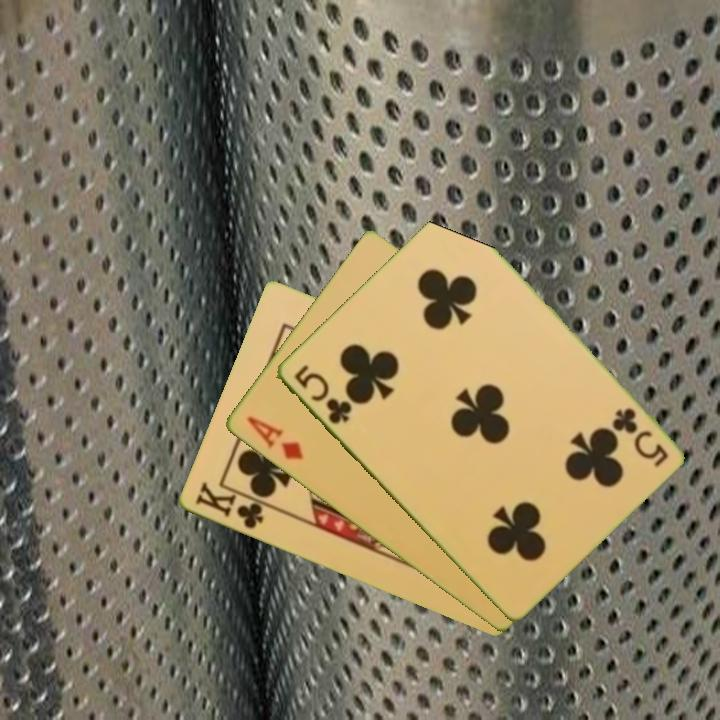5c: (290, 361, 354, 427), (608, 404, 671, 470)
Ad: (243, 412, 306, 463)
Kc: (191, 478, 275, 532)
